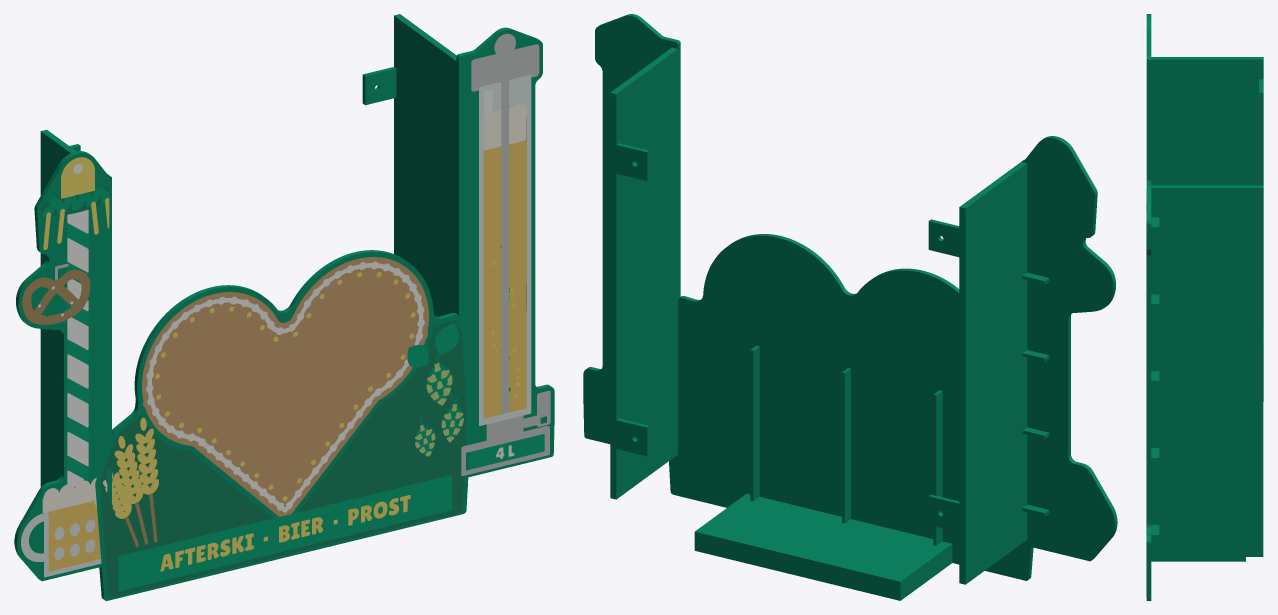
The model's file is parts.glb.
3 renders of one model, left to right at view 1: azimuth 30°, elevation 25°; view 2: azimuth 150°, elevation 25°; view 3: azimuth 270°, elevation 25°, orthographic. The views are drawn at different scales.
Visible parts, largest first — view 1: topper__ginger, wing_right__base, topper__deep, wing_left__base, topper__green, wing_right__beer, topper__base, wing_right__steel, topper__yellow, topper__white, wing_right__glass, wing_left__white (+9 smaller); view 2: topper__base, wing_left__base, wing_right__base; view 3: wing_right__base, wing_left__base, topper__base, wing_right__steel.
Boxes of the visible parts, x1,y1,x2,y2 form: topper__ginger: [142, 257, 428, 516]; wing_right__base: [362, 14, 554, 477]; topper__deep: [100, 320, 466, 597]; wing_left__base: [14, 129, 111, 581]; topper__green: [118, 323, 462, 591]; wing_right__beer: [483, 140, 526, 418]; topper__base: [95, 250, 471, 600]; wing_right__steel: [461, 33, 550, 476]; topper__yellow: [112, 272, 415, 571]; topper__white: [146, 261, 424, 512]; wing_right__glass: [479, 74, 531, 425]; wing_left__white: [38, 164, 88, 487]; topper__base: [669, 234, 1033, 600]; wing_left__base: [928, 136, 1117, 584]; wing_right__base: [583, 14, 680, 499]; wing_right__base: [1146, 180, 1263, 600]; wing_left__base: [1146, 14, 1263, 401]; topper__base: [1151, 557, 1245, 561]; wing_right__steel: [1146, 189, 1146, 597].
Bounding box in the file's own units: 348 × 294 × 73.01.
